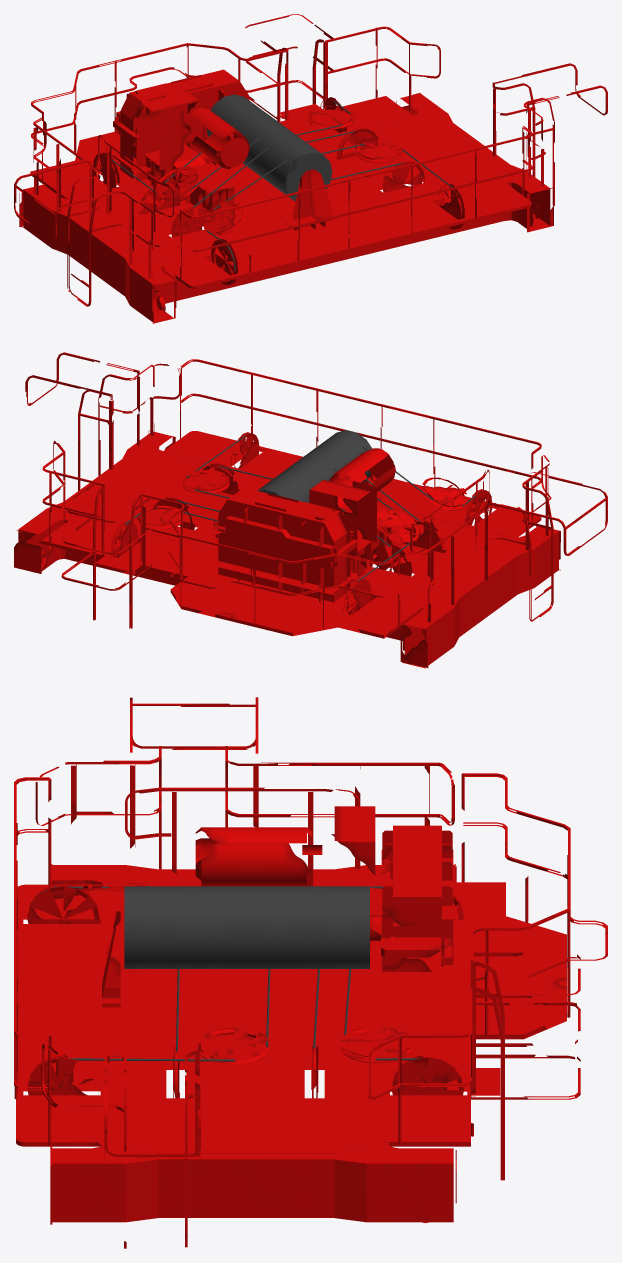
Rendered from ASCTrolley.FBX.
3 renders of one model, top to bottom at view 1: azimuth 30°, elevation 25°; view 2: azimuth 150°, elevation 25°; view 3: azimuth 270°, elevation 25°, orthographic. The views are drawn at different scales.
Parts seen in each view (by area): view 1: ASCTrolley; view 2: ASCTrolley; view 3: ASCTrolley.
Boxes of the visible parts, x1,y1,x2,y2 form: ASCTrolley: (14,14,607,323); ASCTrolley: (14,352,607,668); ASCTrolley: (14,697,607,1248).
Bounding box in the file's own units: 1150 × 281 × 704.
